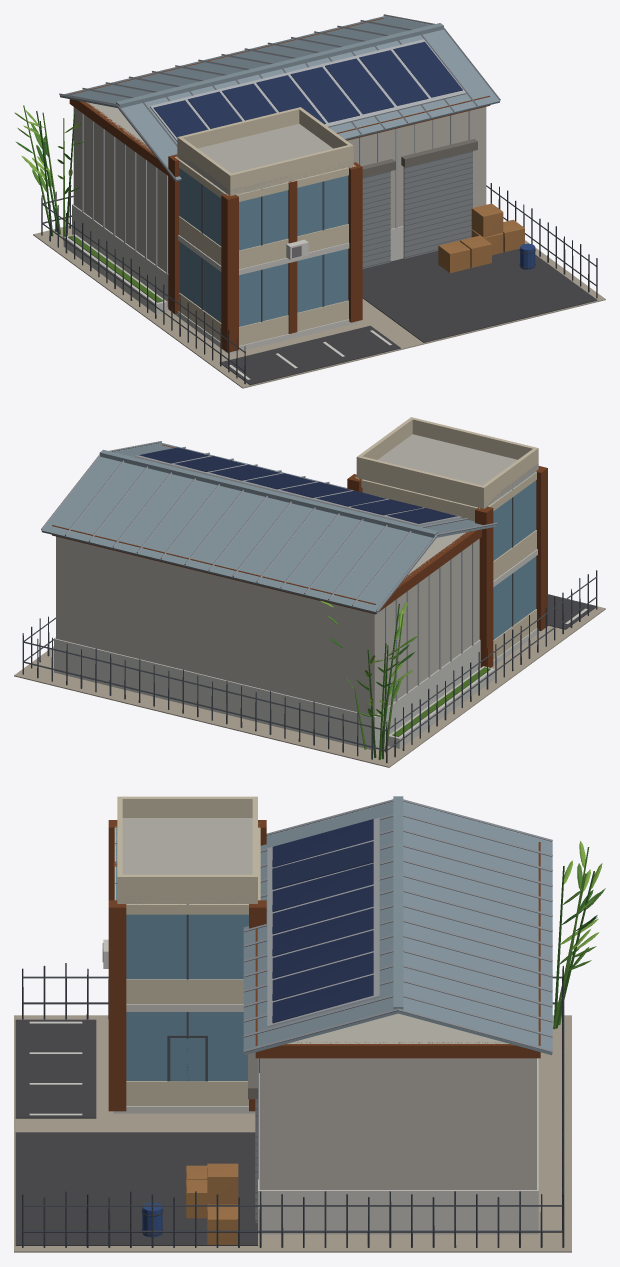
File: factory_1.glb
The picture shows the model from 3 angles, top to bottom: view 1: azimuth 30°, elevation 25°; view 2: azimuth 150°, elevation 25°; view 3: azimuth 270°, elevation 25°; orthographic projection. The views are drawn at different scales.
Parts seen in each view (by area): view 1: body; view 2: body; view 3: body.
Part boxes in pixels (box(x1,y1,x2,y2)): body: box(14, 14, 605, 388); body: box(14, 417, 605, 767); body: box(14, 796, 605, 1252).
Size of the model in its own units: 16.6 by 7.46 by 16.87.
